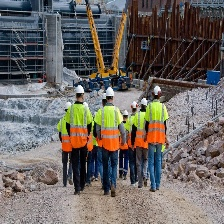helmet: (105, 86, 114, 98), (75, 84, 84, 94), (153, 86, 161, 95)
person: (67, 83, 90, 195), (99, 87, 122, 195), (147, 87, 168, 192)
vest: (71, 103, 89, 149), (101, 109, 120, 149), (150, 102, 165, 144), (134, 113, 146, 148)
